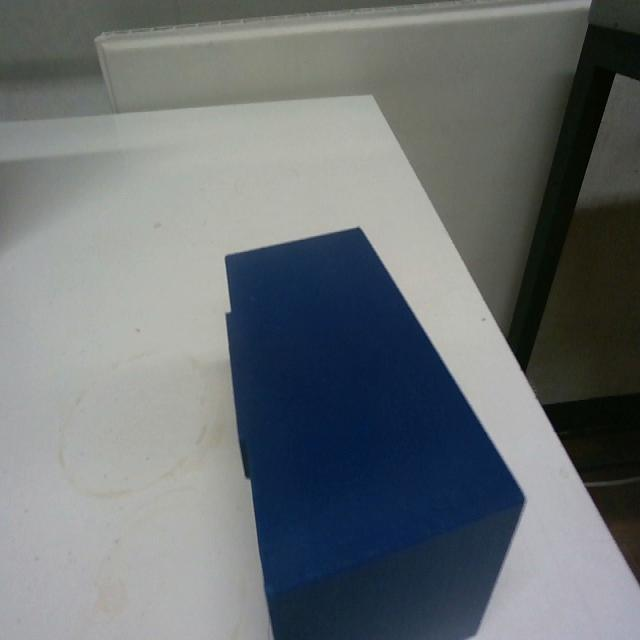Blue Cuboid: (221, 222, 527, 638)
